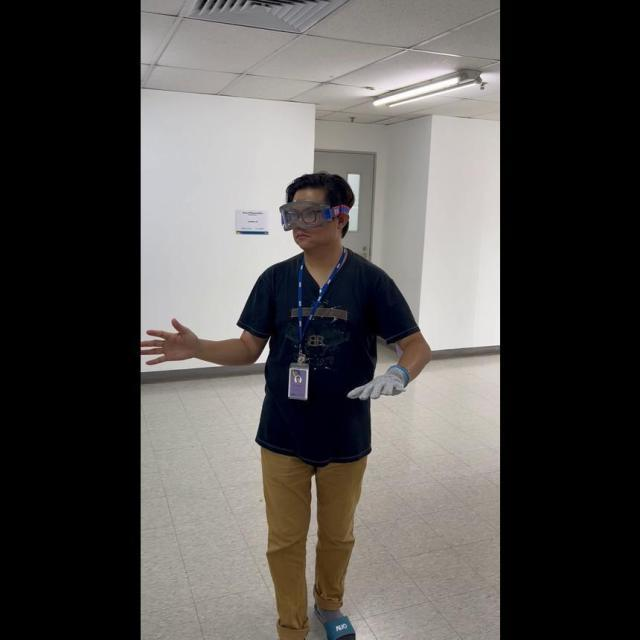bare_hand: (141, 311, 199, 366)
gloved_hand: (345, 359, 410, 406)
